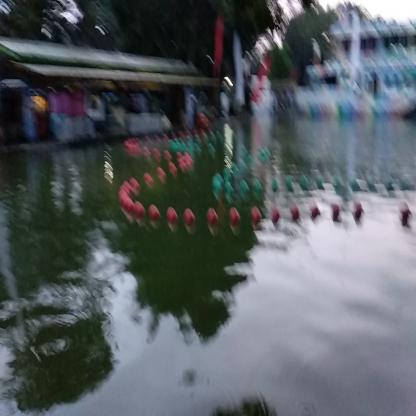green_buoy: (284, 173, 294, 196), (212, 178, 222, 198), (253, 182, 262, 200), (226, 186, 235, 202), (300, 174, 308, 191), (316, 174, 324, 191), (240, 181, 248, 198), (270, 179, 279, 193)
red_buoy: (205, 210, 219, 230), (134, 201, 146, 223), (249, 206, 261, 228), (126, 198, 136, 218), (150, 205, 161, 222), (270, 208, 280, 225), (167, 208, 177, 225), (230, 209, 240, 225), (290, 206, 299, 222), (187, 210, 195, 228), (121, 196, 130, 210)
